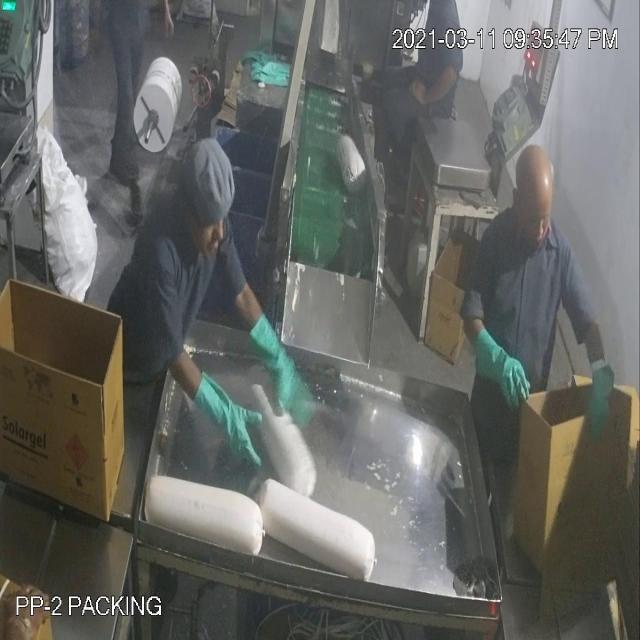Gloves: (36, 54, 596, 432)
